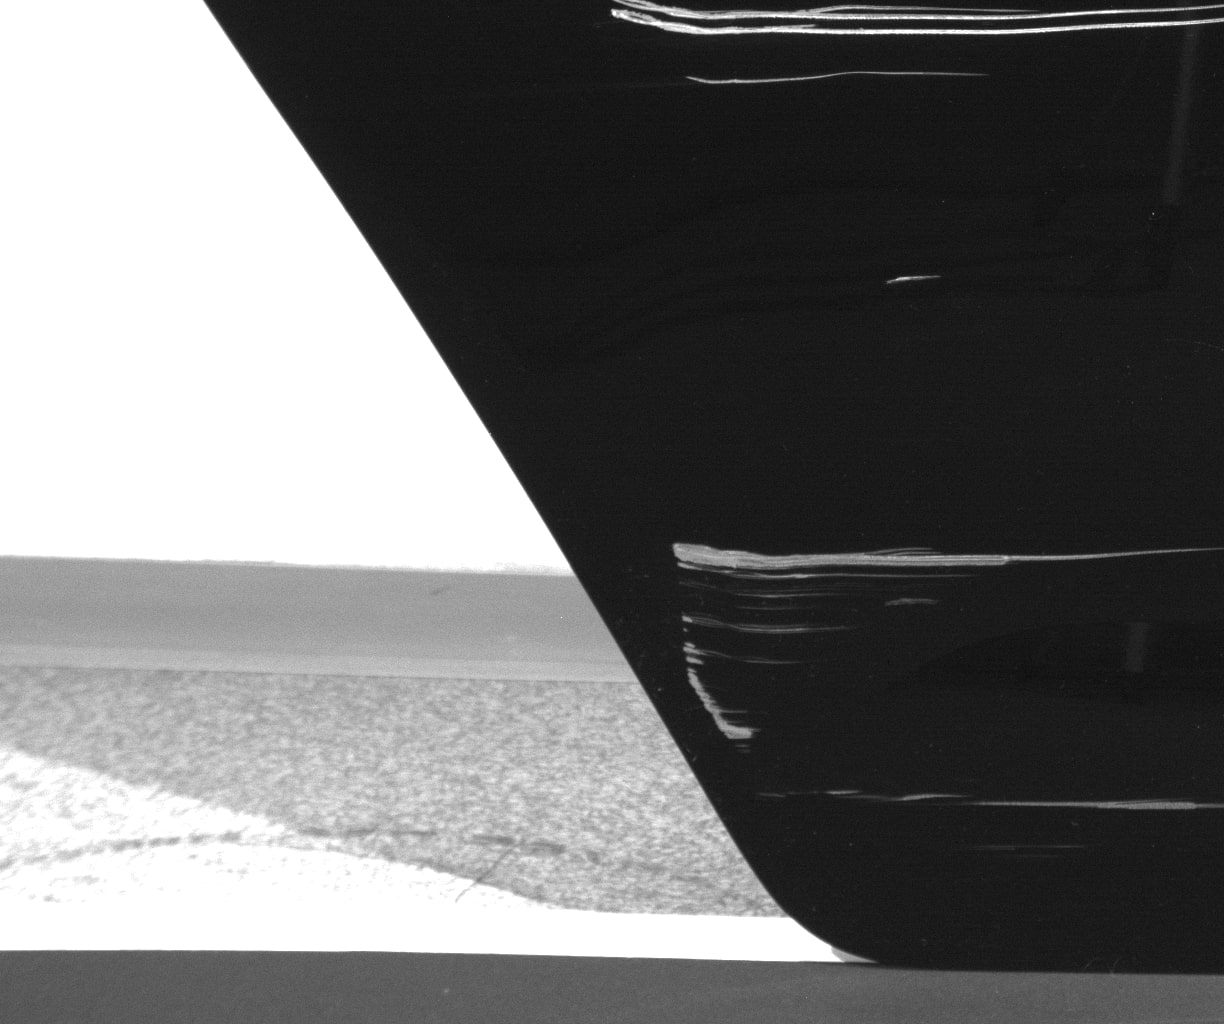scratch: (672, 540, 1224, 748), (611, 1, 1224, 36), (762, 791, 1224, 812), (686, 70, 989, 84), (888, 273, 943, 284)
